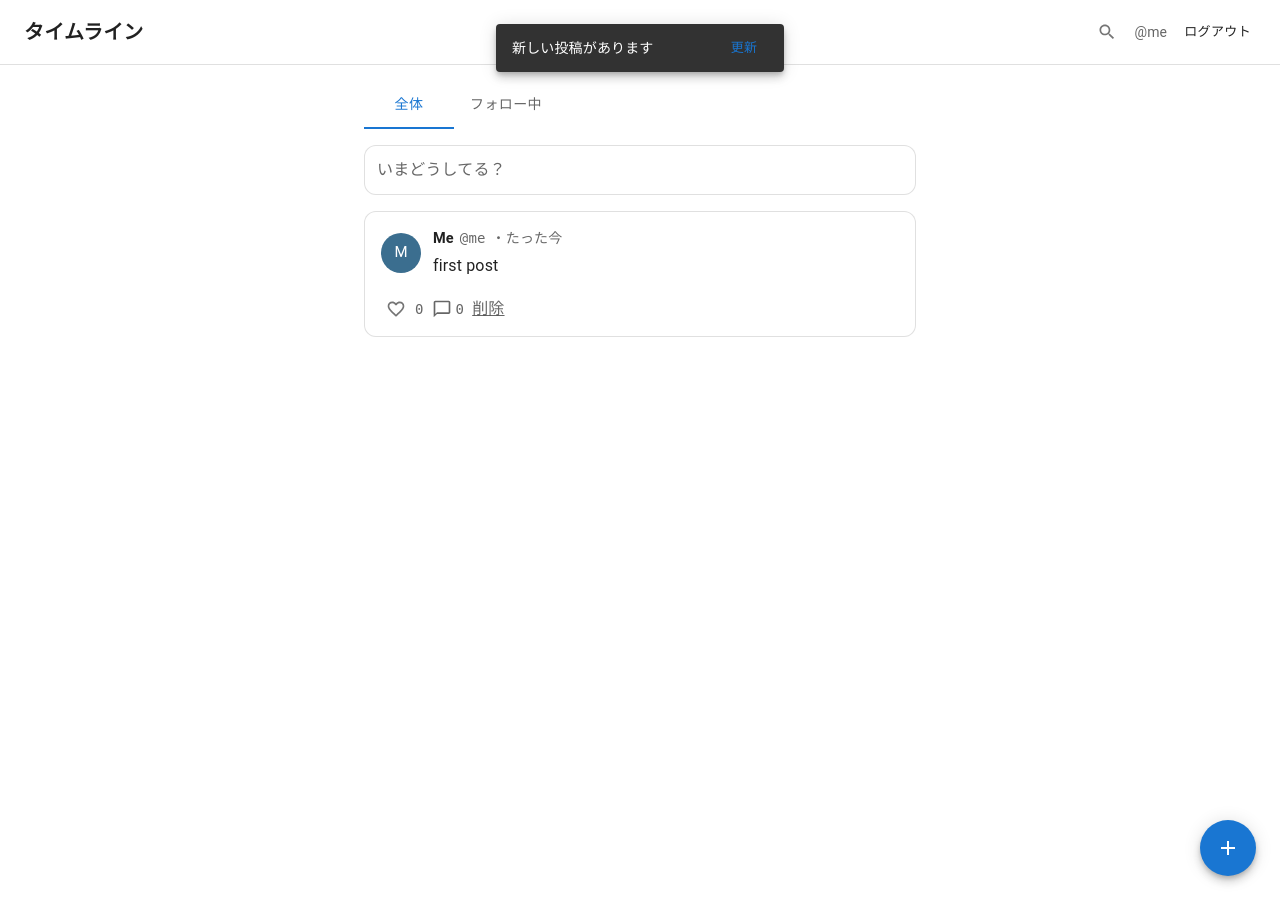
Test: TimelinePage › shows a new-posts banner once polling detects a newer post, and refreshes on click
Expected: the text "first post" is shown, left=433, top=256, right=498, bottom=275
Expected: the text "新しい投稿があります" is shown, left=512, top=40, right=654, bottom=56
Click the button "更新". click: (744, 48)
box: left=712, top=33, right=776, bottom=63
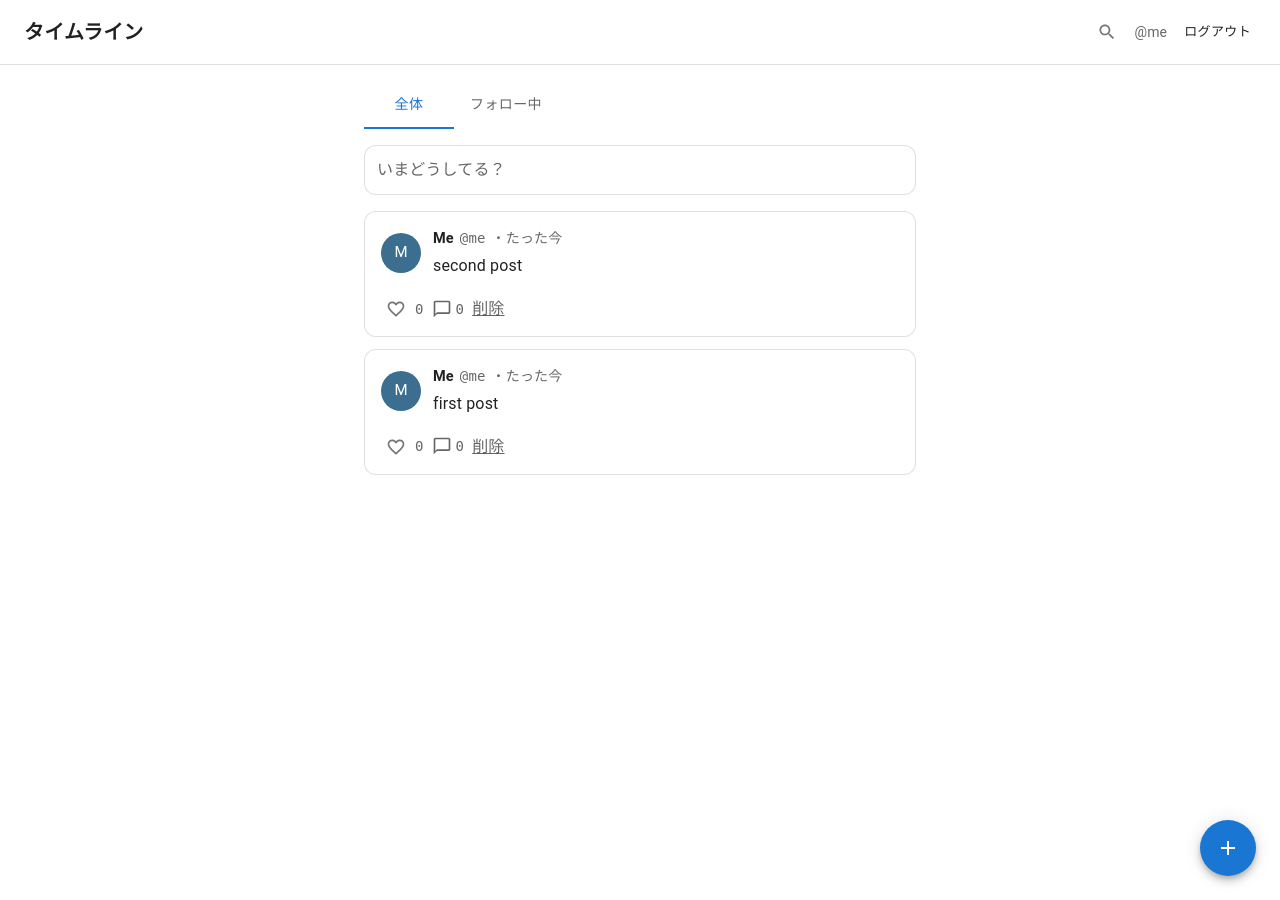
Now the text "second post" is shown, box left=433, top=256, right=522, bottom=275
